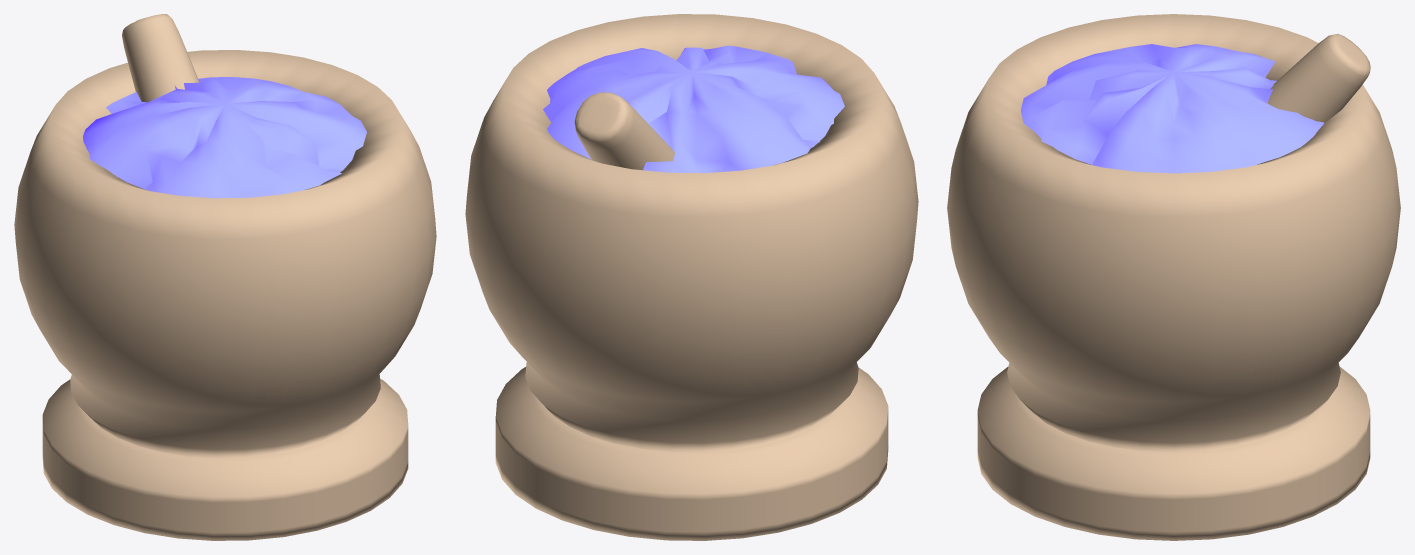
File: kusuri_bati.fbx
The picture shows the model from 3 angles, left to right: view 1: azimuth 30°, elevation 25°; view 2: azimuth 150°, elevation 25°; view 3: azimuth 270°, elevation 25°; orthographic projection. The views are drawn at different scales.
Parts seen in each view (by area): view 1: Sphere.016; view 2: Sphere.016; view 3: Sphere.016.
Part boxes in pixels (x1,y1,x2,y2): Sphere.016: (14,14,436,540); Sphere.016: (465,14,918,540); Sphere.016: (947,14,1400,540).
Size of the model in its own units: 10.28 by 10.55 by 10.28.
